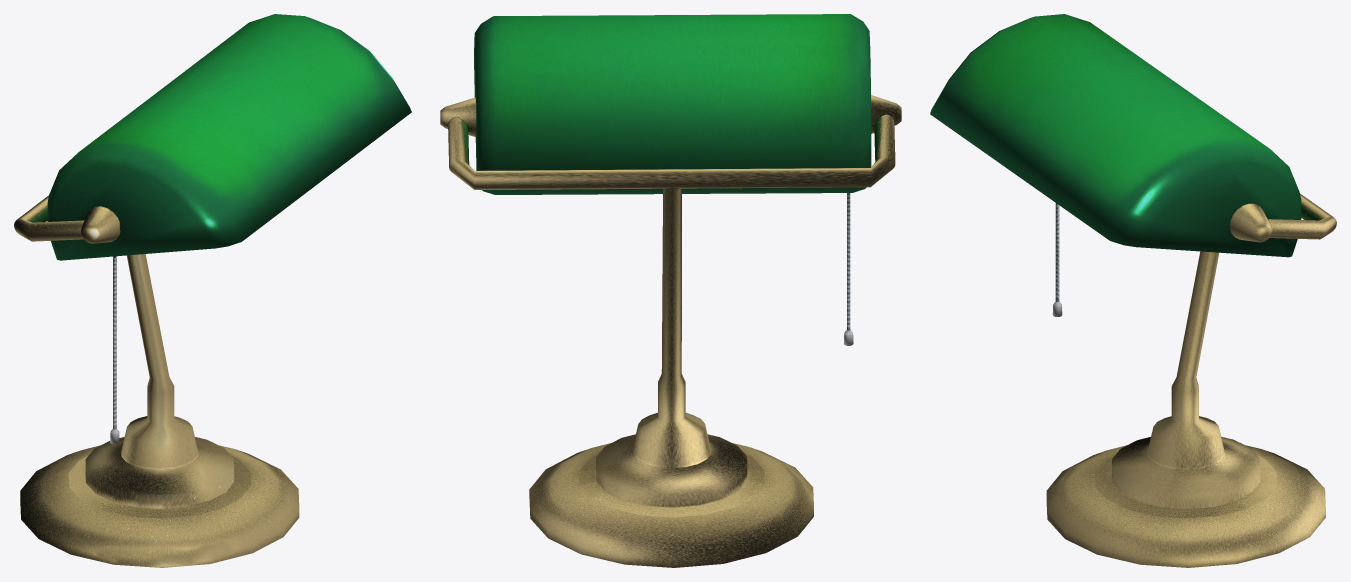
The model's file is office_desk_lamp.glb.
3 renders of one model, left to right at view 1: azimuth 30°, elevation 25°; view 2: azimuth 150°, elevation 25°; view 3: azimuth 270°, elevation 25°, orthographic.
Visible parts, largest first — view 1: Material4-material-material, Material1-material-material; view 2: Material4-material-material, Material1-material-material; view 3: Material4-material-material, Material1-material-material.
Boxes of the visible parts, box(x1,y1,x2,y2) form: Material4-material-material: box(47, 14, 411, 260); Material1-material-material: box(14, 195, 299, 567); Material4-material-material: box(474, 14, 871, 194); Material1-material-material: box(440, 95, 901, 567); Material4-material-material: box(930, 14, 1301, 257); Material1-material-material: box(1046, 193, 1336, 567).
Bounding box in the file's own units: 0.3698 × 0.3959 × 0.3296.
Materials: 4 (4 with a texture image).
